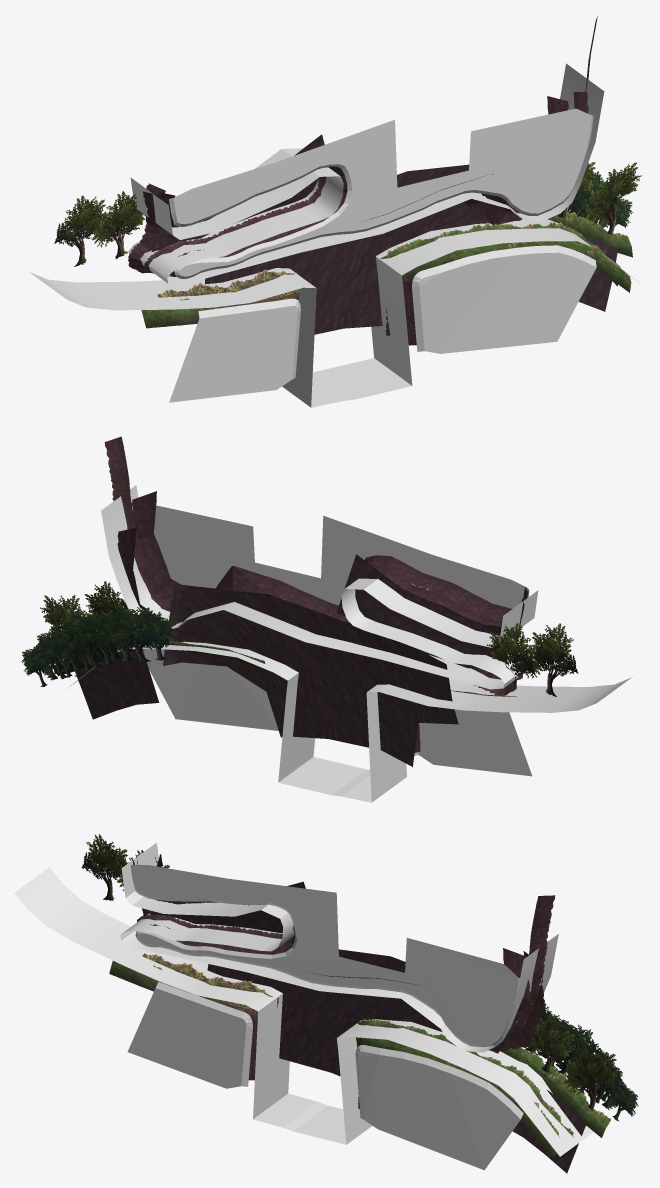
File: Tree Village Pt2.FBX
3 renders of one model, top to bottom at view 1: azimuth 30°, elevation 25°; view 2: azimuth 150°, elevation 25°; view 3: azimuth 330°, elevation 25°, orthographic. The views are drawn at different scales.
Parts seen in each view (by area): view 1: LVL 11 Col Pt2, LVL 11 Black Pt2_3, LVL 11 Black Pt2_1, LVL 11 Black Pt2_2, LVL Fall Pt2_2, LVL11 Trees Pt2_1, LVL11 Trees Pt2_2, LVL11_Land Pt2 FG_2, LVL11_Land Fall Pt2_2, LVL11 Tree BG Pt2, LVL11_Land Pt2 FG_1, LVL11_Land Pt2 BG (+9 smaller); view 2: LVL 11 Col Pt2, LVL Fall Pt2_2, LVL 11 Black Pt2_3, LVL11 Tree BG Pt2, LVL 11 Black Pt2_1, LVL 11 Black Pt2_2, LVL11_Land Fall Pt2_2 FG, LVL Fall Pt2_1, LVL Fall Pt2_3, LVL11 Trees Pt2_1, LVL11_Land Fall Pt2_1 FG, LVL11_Land Fall Pt2_3 (+4 smaller); view 3: LVL 11 Col Pt2, LVL 11 Black Pt2_3, LVL 11 Black Pt2_1, LVL 11 Black Pt2_2, LVL Fall Pt2_2, LVL11 Trees Pt2_2, LVL11 Tree BG Pt2, LVL11_Land Pt2 BG, LVL11_Land Fall Pt2_3, LVL11 Trees Pt2_1, LVL Fall Pt2_1, LVL11_Land Pt2 FG_2 (+9 smaller).
Part boxes in pixels (<box>): LVL 11 Col Pt2: <box>29,63,639,407</box>; LVL 11 Black Pt2_3: <box>397,108,596,353</box>; LVL 11 Black Pt2_1: <box>169,119,409,278</box>; LVL 11 Black Pt2_2: <box>169,298,300,402</box>; LVL Fall Pt2_2: <box>205,164,489,334</box>; LVL11 Trees Pt2_1: <box>54,191,145,266</box>; LVL11 Trees Pt2_2: <box>557,162,641,235</box>; LVL11_Land Pt2 FG_2: <box>422,241,631,292</box>; LVL11_Land Fall Pt2_2: <box>143,167,330,273</box>; LVL11 Tree BG Pt2: <box>567,170,633,228</box>; LVL11_Land Pt2 FG_1: <box>141,295,280,328</box>; LVL11_Land Pt2 BG: <box>522,212,632,257</box>; LVL 11 Col Pt2: <box>68,485,631,802</box>; LVL Fall Pt2_2: <box>163,583,458,766</box>; LVL 11 Black Pt2_3: <box>143,505,320,730</box>; LVL11 Tree BG Pt2: <box>21,603,175,686</box>; LVL 11 Black Pt2_1: <box>313,515,529,608</box>; LVL 11 Black Pt2_2: <box>414,709,532,776</box>; LVL11_Land Fall Pt2_2 FG: <box>131,491,350,623</box>; LVL Fall Pt2_1: <box>336,554,509,669</box>; LVL Fall Pt2_3: <box>75,650,159,719</box>; LVL11 Trees Pt2_1: <box>487,622,578,696</box>; LVL11_Land Fall Pt2_1 FG: <box>365,555,527,621</box>; LVL11_Land Fall Pt2_3: <box>104,436,268,611</box>; LVL 11 Col Pt2: <box>14,842,593,1156</box>; LVL 11 Black Pt2_3: <box>339,938,523,1170</box>; LVL 11 Black Pt2_1: <box>130,865,350,987</box>; LVL 11 Black Pt2_2: <box>127,982,252,1088</box>; LVL Fall Pt2_2: <box>207,949,442,1076</box>; LVL11 Trees Pt2_2: <box>523,1013,619,1110</box>; LVL11 Tree BG Pt2: <box>520,1003,638,1121</box>; LVL11_Land Pt2 BG: <box>501,1047,610,1137</box>; LVL11_Land Fall Pt2_3: <box>507,895,555,1042</box>; LVL11 Trees Pt2_1: <box>81,834,169,911</box>; LVL Fall Pt2_1: <box>150,881,305,933</box>; LVL11_Land Pt2 FG_2: <box>370,1038,560,1157</box>.
Bounding box in the file's own units: 10459 × 1365 × 4843.
